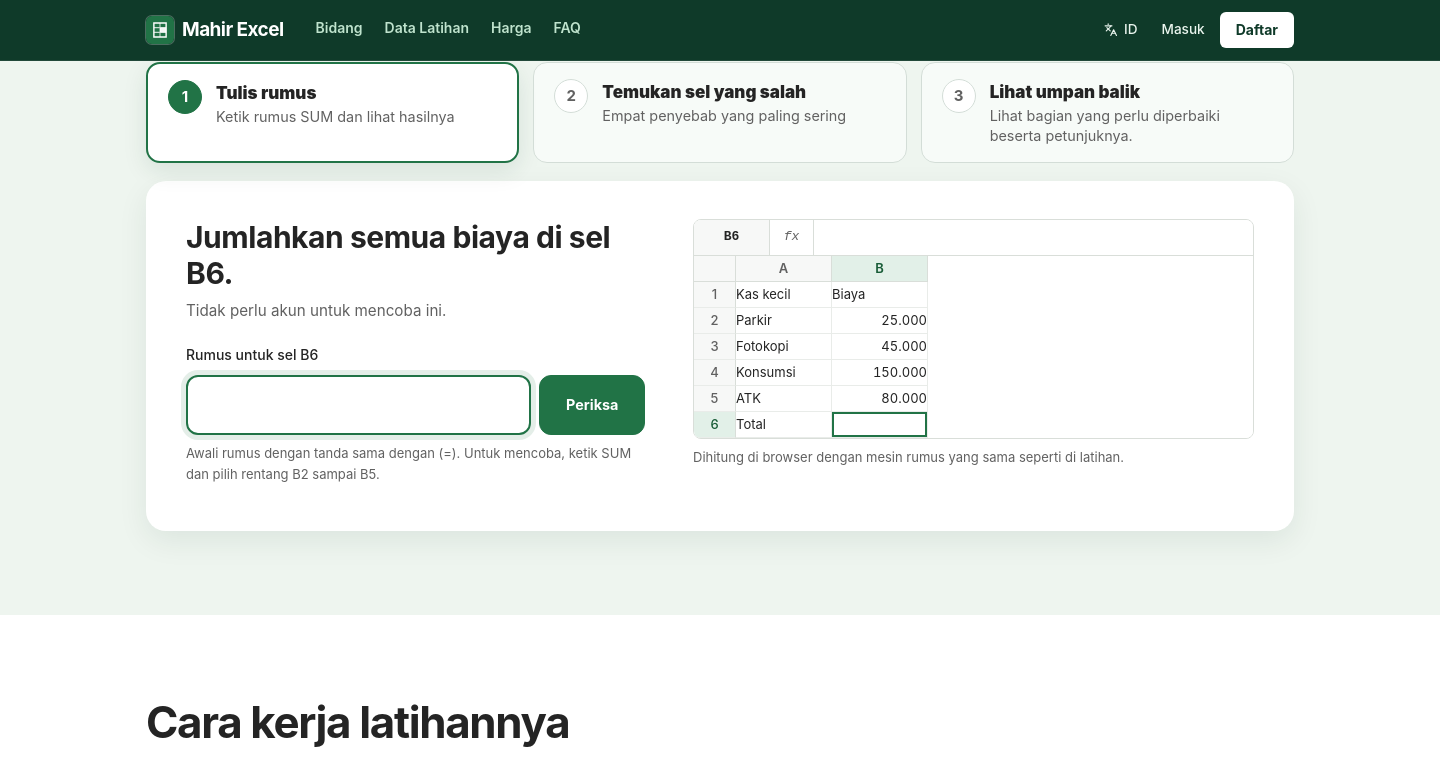
it: beranda pengunjung › coba satu rumus › angka pas tetapi tanpa SUM ditolak dengan alasan
This screenshot has width=1440, height=764.
(page scrolled)
Type "=25000+45000+150000+80000" into the field labelled "Rumus untuk sel B6" at point(359, 405), box [186, 375, 531, 435]
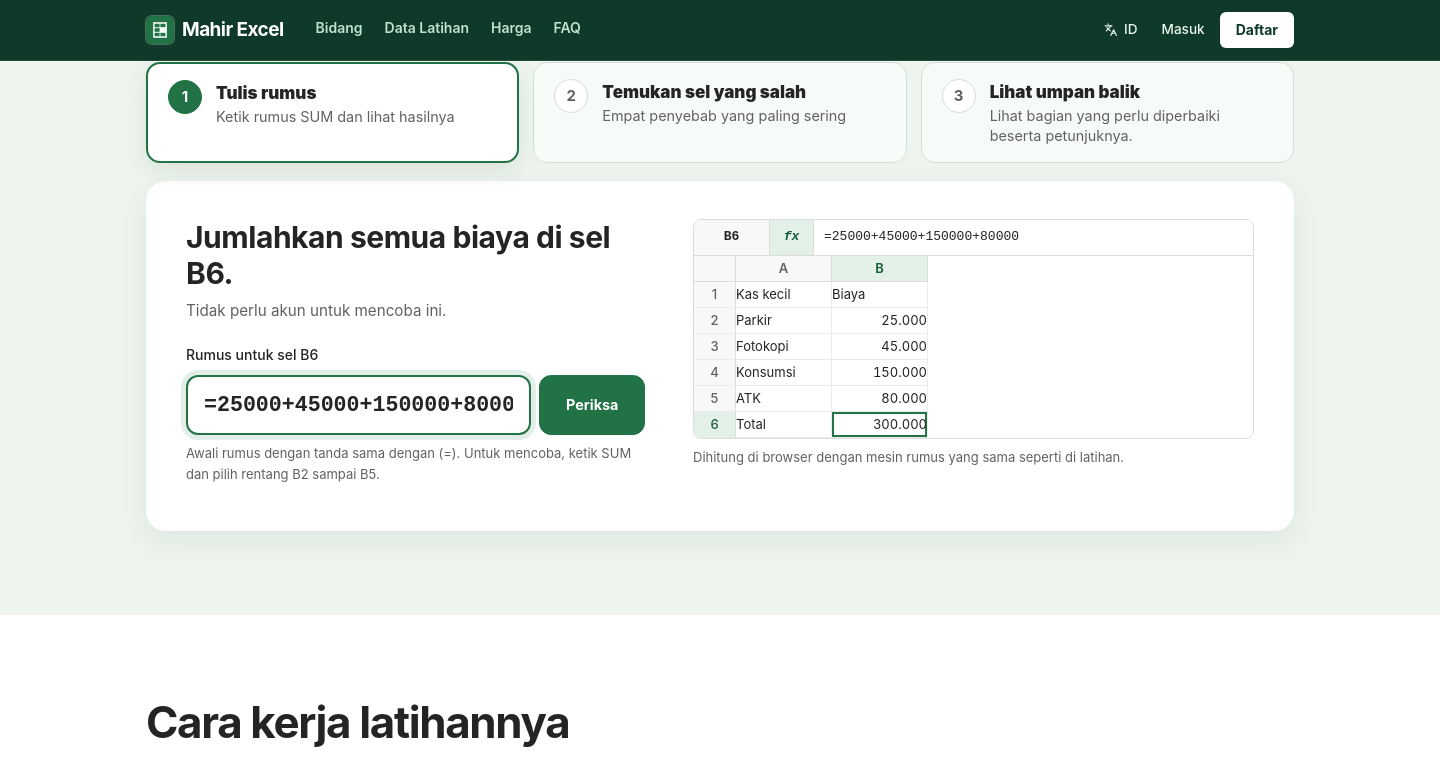
Click the button "Periksa" at point(592, 405), box [539, 375, 645, 435]
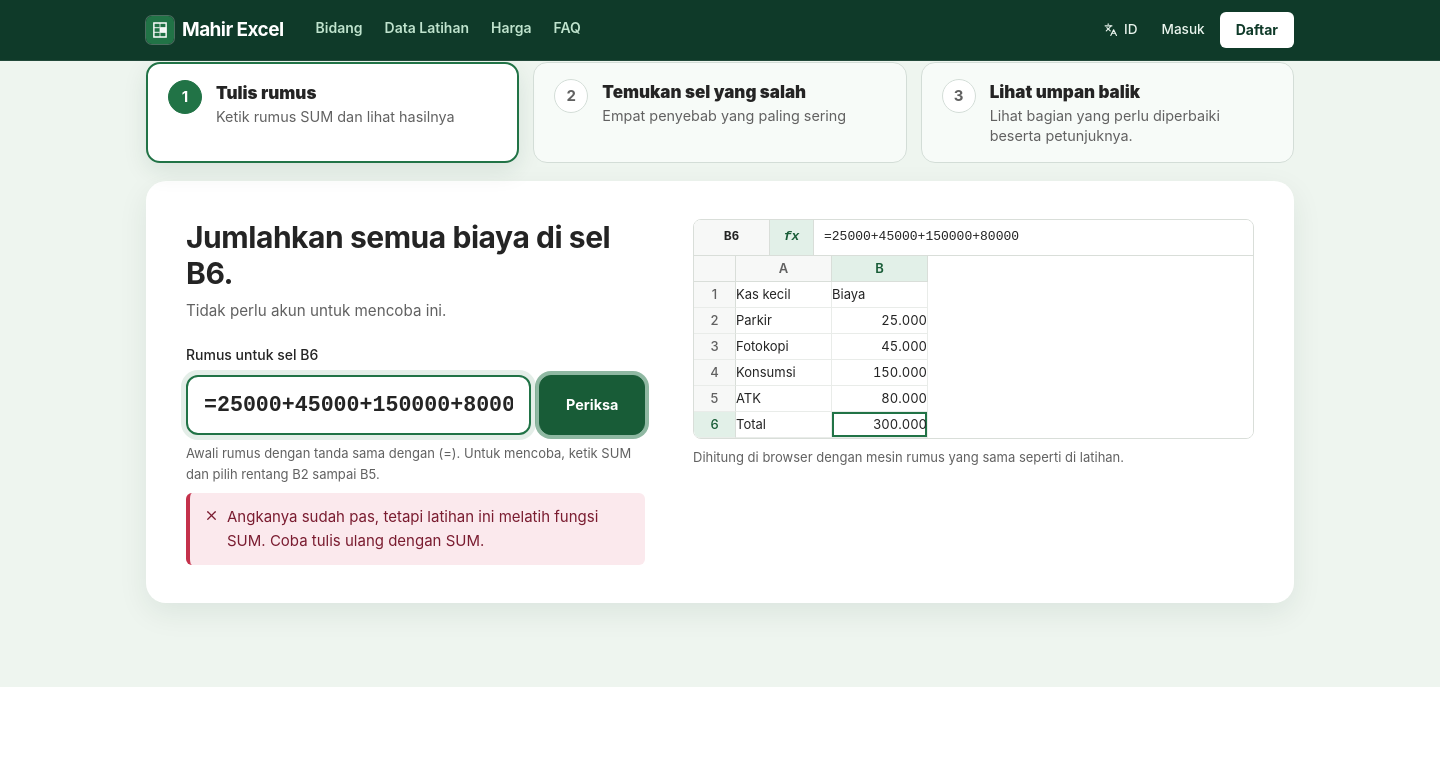
Now the text "latihan ini melatih fungsi SUM" is shown, box [227, 507, 598, 550]
